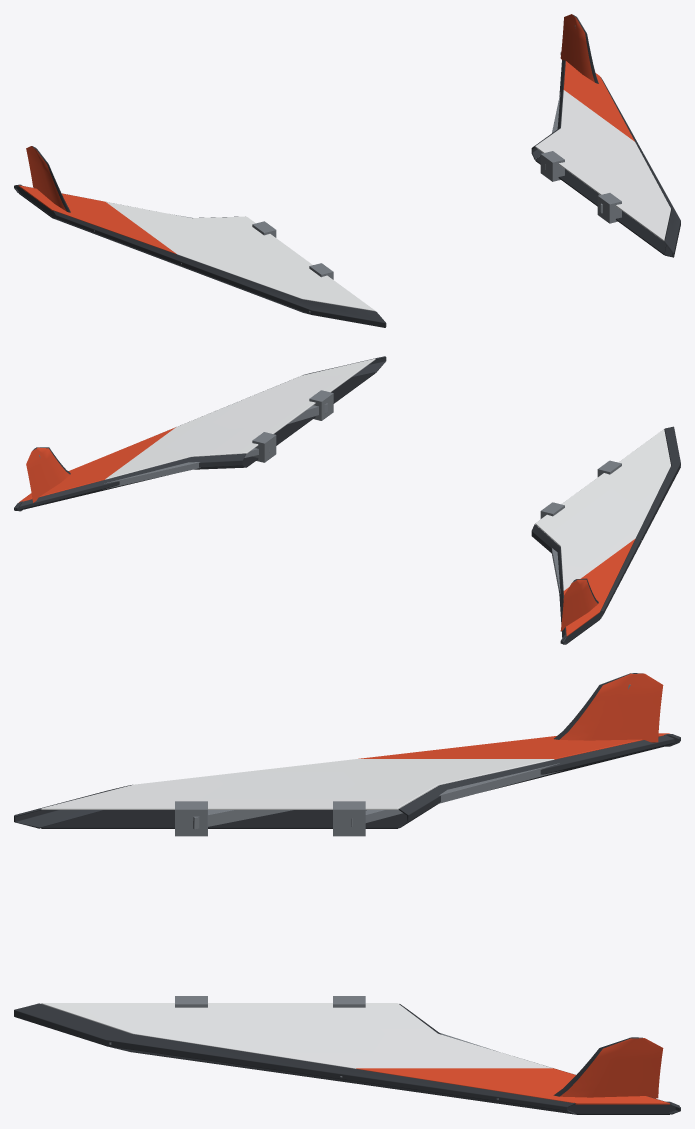
Rendered from vortex_wing_blade.fbx.
3 renders of one model, top to bottom at view 1: azimuth 30°, elevation 25°; view 2: azimuth 150°, elevation 25°; view 3: azimuth 270°, elevation 25°, orthographic. The views are drawn at different scales.
Visible parts, largest first — view 1: Wing_Top_L.001, Wing_Top_R.001, Wing_LE_L.001, Wing_Blade_Extra_R, Wing_Structure_R.001, Wing_Bottom_R.001, Wing_Blade_Extra_L, Wing_LE_R.001, Wing_Structure_L.001; view 2: Wing_Top_L.001, Wing_Top_R.001, Wing_TE_R.001, Wing_Structure_R.001, Wing_LE_L.001, Wing_Blade_Extra_R, Wing_Blade_Extra_L, Wing_Bottom_R.001, Wing_TE_L.001, Wing_Structure_L.001; view 3: Wing_Top_R.001, Wing_Top_L.001, Wing_LE_R.001, Wing_Blade_Extra_L, Wing_Structure_L.001, Wing_Blade_Extra_R, Wing_Bottom_L.001, Wing_TE_L.001, Wing_LE_L.001, Wing_Tip_R.001, Wing_Structure_R.001.
Boxes of the visible parts, box(x1,y1,x2,y2) form: Wing_Top_L.001: box(18, 185, 375, 311); Wing_Top_R.001: box(535, 61, 670, 240); Wing_LE_L.001: box(53, 210, 386, 327); Wing_Blade_Extra_R: box(560, 14, 598, 83); Wing_Structure_R.001: box(540, 92, 621, 223); Wing_Bottom_R.001: box(535, 156, 667, 254); Wing_Blade_Extra_L: box(26, 146, 70, 212); Wing_LE_R.001: box(601, 77, 680, 257); Wing_Structure_L.001: box(94, 214, 333, 312); Wing_Top_L.001: box(535, 429, 670, 636); Wing_Top_R.001: box(19, 358, 375, 502); Wing_TE_R.001: box(14, 453, 245, 510); Wing_Structure_R.001: box(101, 390, 333, 490); Wing_LE_L.001: box(600, 426, 680, 618); Wing_Blade_Extra_R: box(26, 447, 70, 502); Wing_Blade_Extra_L: box(560, 578, 598, 631); Wing_Bottom_R.001: box(243, 372, 375, 467); Wing_TE_L.001: box(531, 524, 566, 644); Wing_Structure_L.001: box(540, 460, 680, 593); Wing_Top_R.001: box(41, 1003, 669, 1104); Wing_Top_L.001: box(41, 733, 669, 809); Wing_LE_R.001: box(14, 1003, 575, 1114); Wing_Blade_Extra_L: box(554, 673, 663, 742); Wing_Structure_L.001: box(175, 763, 563, 836); Wing_Blade_Extra_R: box(553, 1037, 663, 1098); Wing_Bottom_L.001: box(41, 810, 406, 828); Wing_TE_L.001: box(398, 734, 680, 828); Wing_LE_L.001: box(14, 784, 132, 828); Wing_Tip_R.001: box(568, 1101, 679, 1112); Wing_Structure_R.001: box(109, 996, 498, 1099).
Bounding box in the file's own units: 267 × 26.01 × 203.
